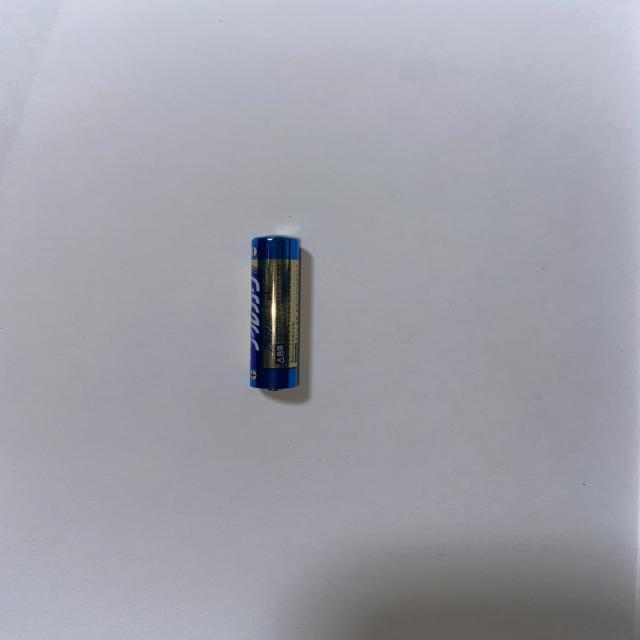Hazard: (246, 231, 302, 391)
